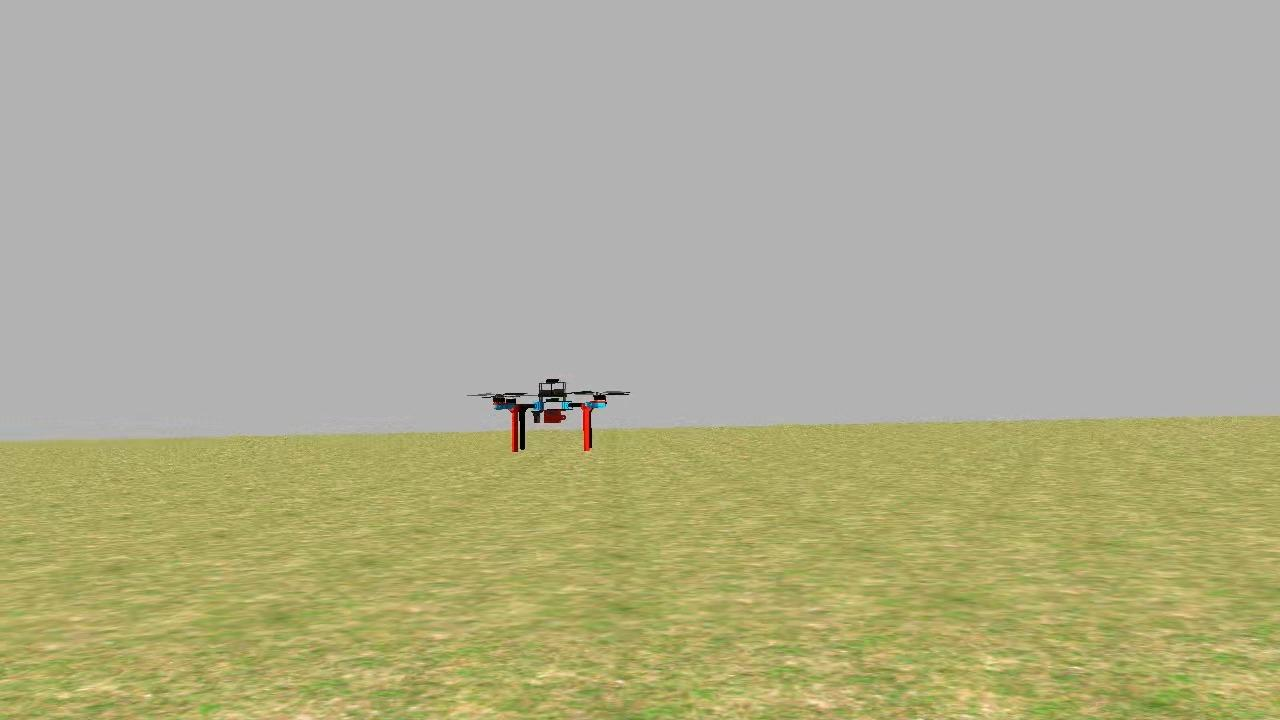UAV: (485, 376, 618, 452)
